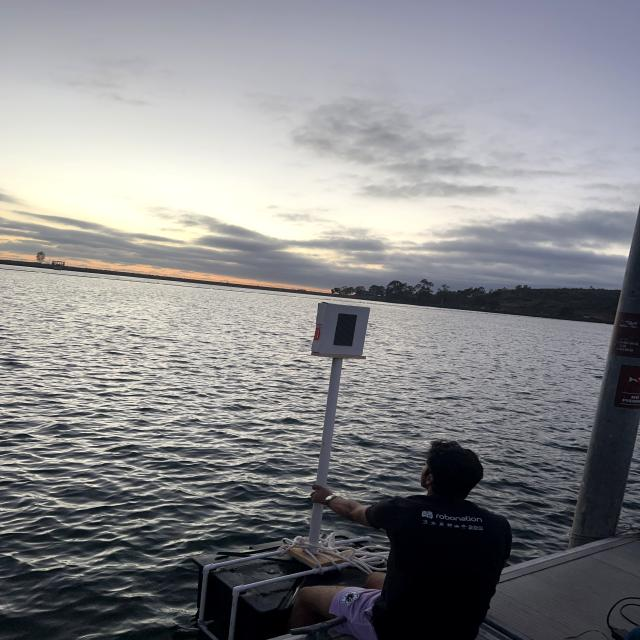led: (318, 300, 371, 353)
